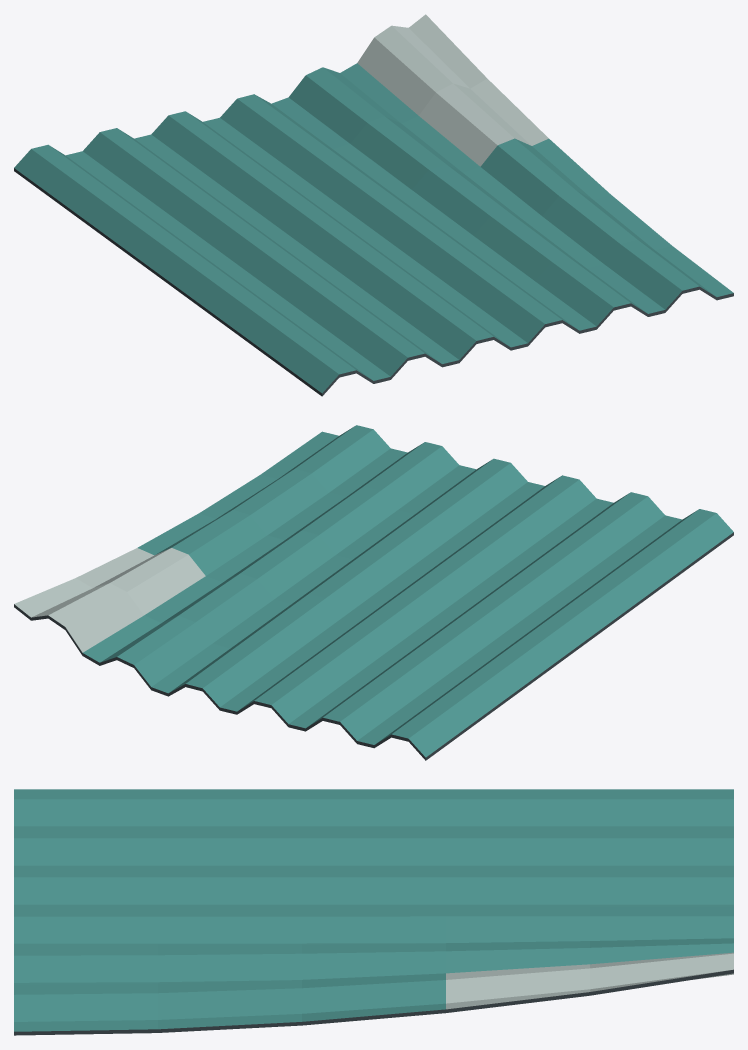
Rendered from Sheet_Bent_Teal.glb.
3 renders of one model, top to bottom at view 1: azimuth 30°, elevation 25°; view 2: azimuth 150°, elevation 25°; view 3: azimuth 270°, elevation 25°, orthographic. The views are drawn at different scales.
Visible parts, largest first — view 1: Sheet_Bent_Teal; view 2: Sheet_Bent_Teal; view 3: Sheet_Bent_Teal.
Boxes of the visible parts, x1,y1,x2,y2 form: Sheet_Bent_Teal: (14, 14, 733, 396); Sheet_Bent_Teal: (14, 425, 733, 760); Sheet_Bent_Teal: (14, 789, 733, 1035).
Bounding box in the file's own units: 0.81 × 0.106 × 1.05.
